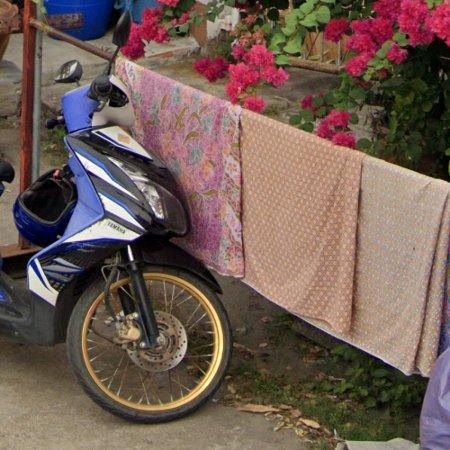motorcycles: (0, 73, 232, 423)
